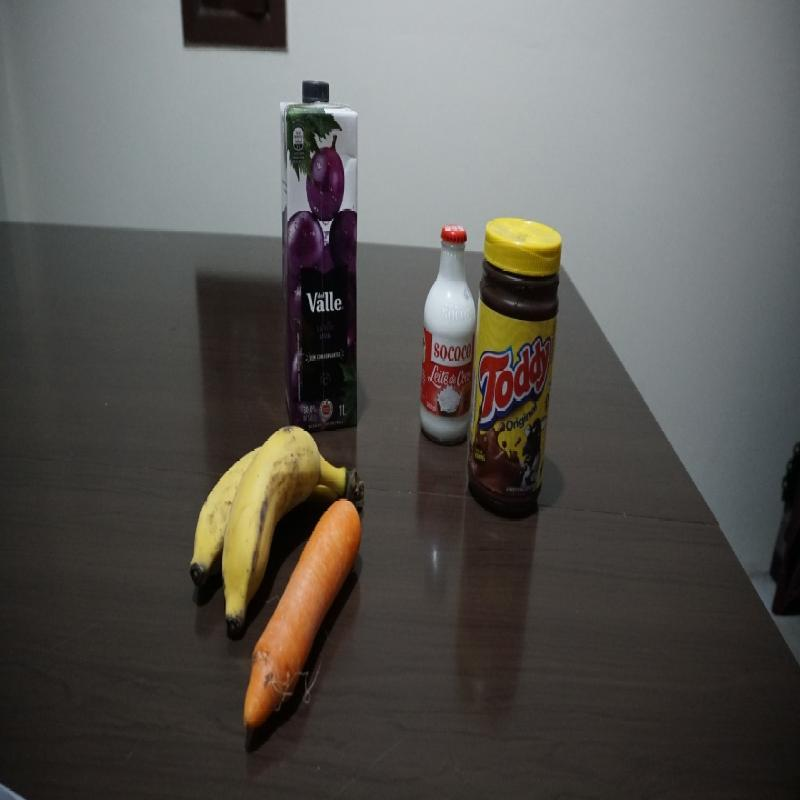Banana: (187, 416, 358, 504)
Carrot: (250, 516, 361, 737)
Chocolate Powder: (472, 210, 566, 510)
Coconut Milk: (417, 214, 473, 443)
